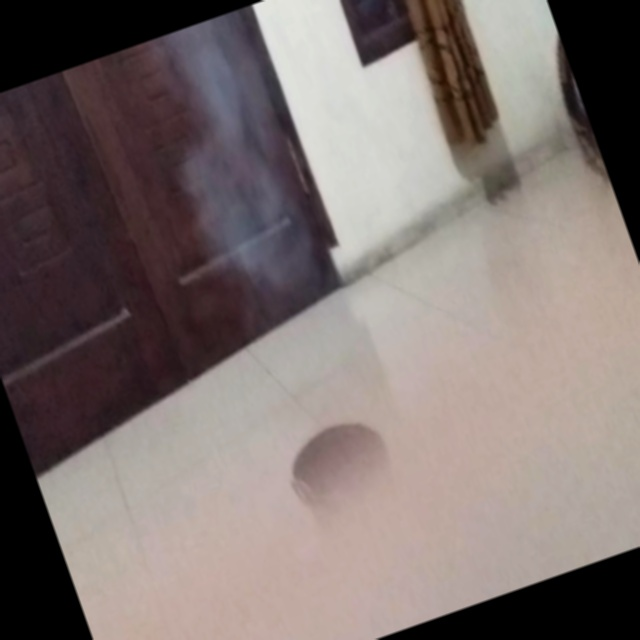smoke: (151, 36, 443, 359)
